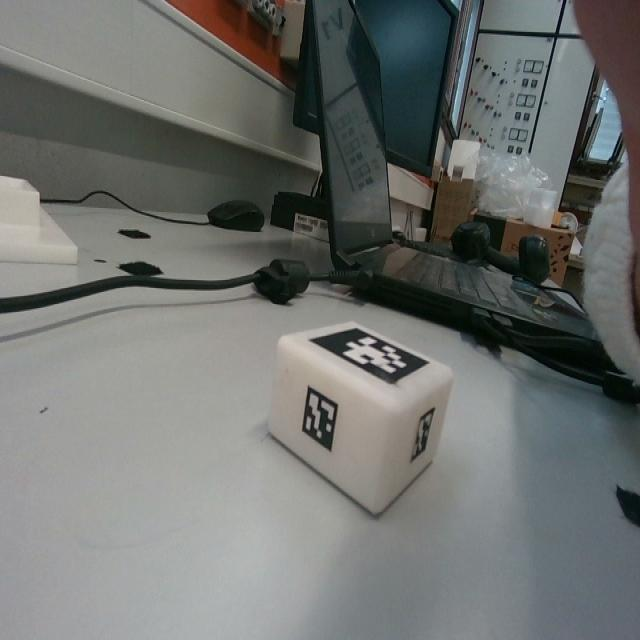Cube: (270, 320, 454, 519)
